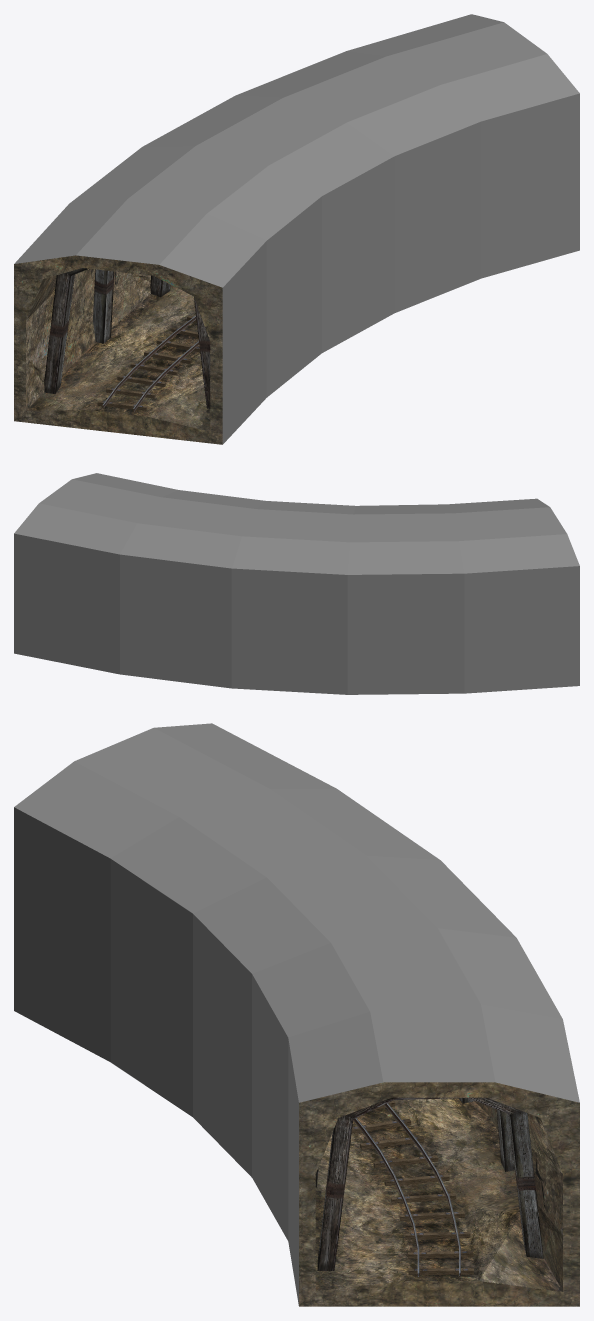
File: svgoldmine07.dae
3 renders of one model, top to bottom at view 1: azimuth 30°, elevation 25°; view 2: azimuth 150°, elevation 25°; view 3: azimuth 270°, elevation 25°, orthographic. The views are drawn at different scales.
Parts seen in each view (by area): view 1: unnamed_object1_sep1177-0, unnamed_object1_sep1087-0, unnamed_object1_sep710-0; view 2: unnamed_object1_sep1177-0; view 3: unnamed_object1_sep1177-0, unnamed_object1_sep1087-0, unnamed_object1_sep710-0.
Boxes of the visible parts, box(x1,y1,x2,y2) form: unnamed_object1_sep1177-0: box(14, 14, 579, 444); unnamed_object1_sep1087-0: box(44, 268, 210, 408); unnamed_object1_sep710-0: box(97, 315, 200, 411); unnamed_object1_sep1177-0: box(14, 473, 579, 694); unnamed_object1_sep1177-0: box(14, 723, 579, 1306); unnamed_object1_sep1087-0: box(315, 1097, 543, 1270); unnamed_object1_sep710-0: box(351, 1100, 473, 1276).
Bounding box in the file's own units: 4792 × 1320 × 3021.
